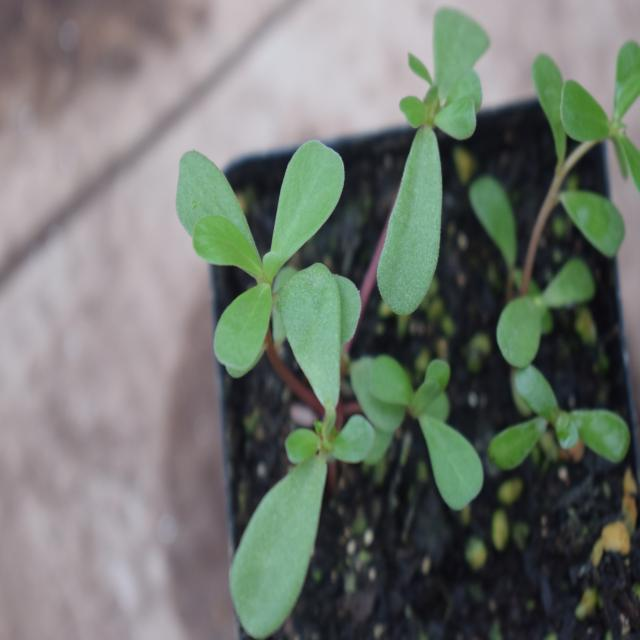purslane: (183, 7, 534, 606)
